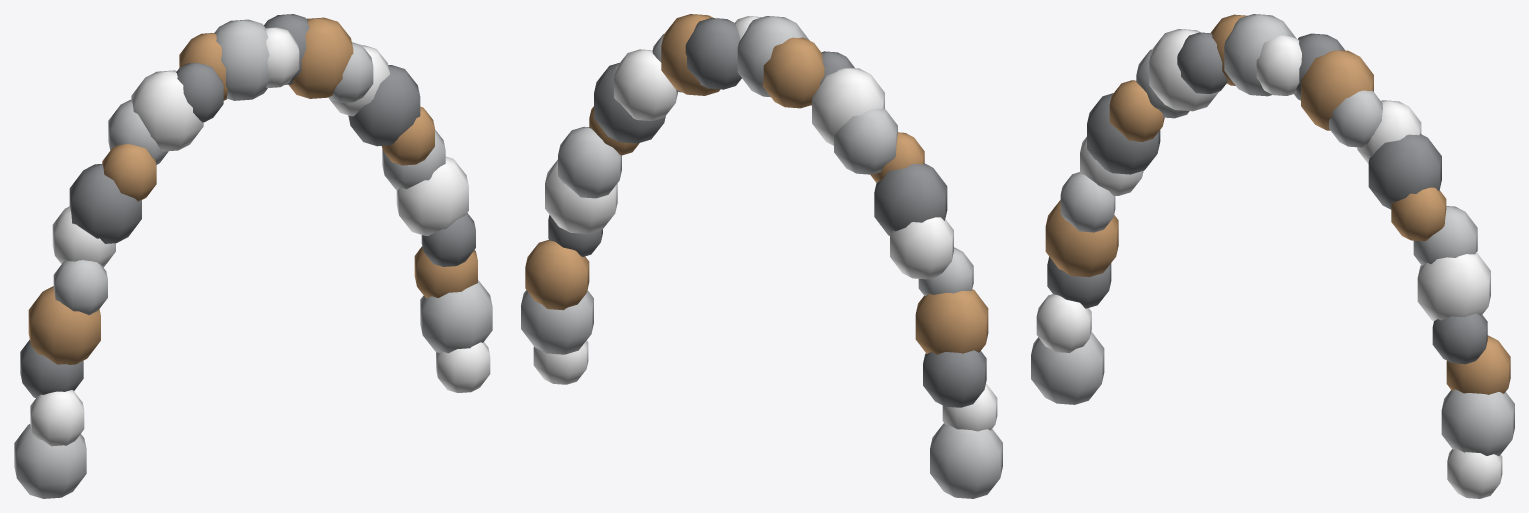
File: balloon_arch_light.glb
3 views of the same model, side by side, from view 1: azimuth 30°, elevation 25°; view 2: azimuth 150°, elevation 25°; view 3: azimuth 330°, elevation 25° (orthographic).
Visible parts, largest first — view 1: balloon_arch_light; view 2: balloon_arch_light; view 3: balloon_arch_light.
Part boxes in pixels (x1,y1,x2,y2): balloon_arch_light: (14,14,492,498); balloon_arch_light: (521,14,1002,498); balloon_arch_light: (1031,14,1514,498).
Bounding box in the file's own units: 2.67 × 2.32 × 0.3782.
